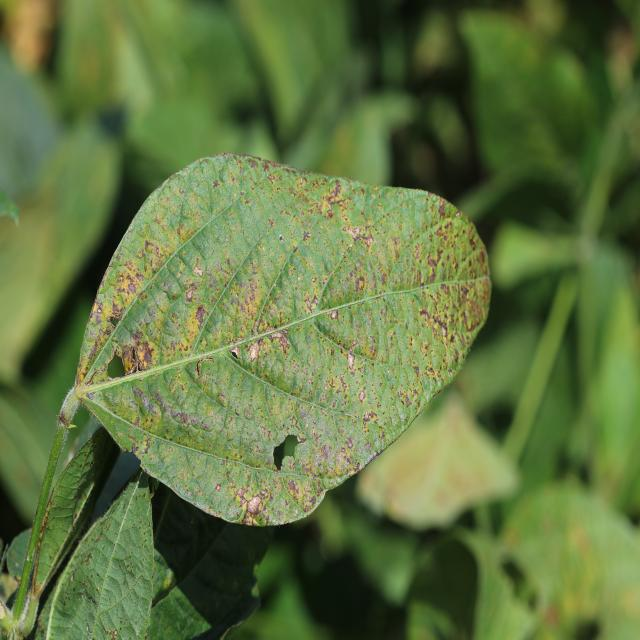Bacterial_Blight: (541, 514, 611, 627), (300, 422, 356, 478), (445, 243, 490, 287), (238, 489, 268, 527), (167, 400, 205, 429), (59, 383, 84, 425), (461, 293, 485, 331), (37, 502, 55, 548), (133, 339, 155, 372), (338, 339, 360, 371), (270, 329, 291, 356), (346, 225, 373, 246), (106, 300, 124, 327), (119, 350, 135, 375), (2, 621, 23, 640), (160, 568, 175, 593), (246, 340, 260, 363), (327, 181, 342, 202), (194, 305, 207, 329), (434, 315, 448, 337), (124, 275, 138, 295), (102, 624, 120, 638), (362, 410, 377, 426), (31, 581, 45, 598), (36, 616, 47, 637), (75, 367, 87, 386), (354, 276, 366, 293), (418, 307, 430, 323), (427, 254, 438, 271), (192, 261, 203, 278), (195, 358, 203, 379), (185, 287, 194, 302), (358, 388, 366, 403), (94, 531, 103, 544), (230, 348, 239, 361), (330, 309, 339, 320), (124, 561, 133, 572), (302, 231, 311, 241), (296, 434, 305, 443), (85, 553, 92, 564), (215, 483, 222, 492), (212, 179, 219, 188), (25, 555, 32, 564), (86, 625, 91, 635), (2, 630, 8, 637), (171, 295, 176, 301), (83, 580, 87, 587), (96, 586, 100, 592), (89, 598, 93, 604)
Soybean: (61, 154, 491, 525)
